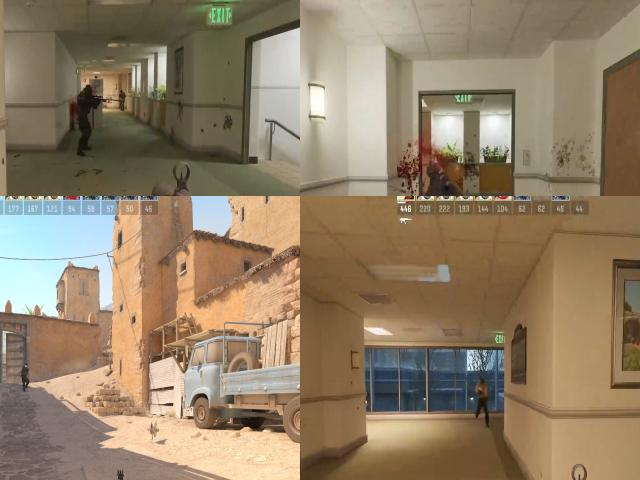CT: (75, 84, 96, 138), (21, 363, 30, 392)
CT-Head: (81, 82, 93, 100), (25, 362, 28, 366)
Dead: (418, 155, 463, 196)
T: (472, 368, 491, 423)
T-Head: (477, 374, 488, 389)
